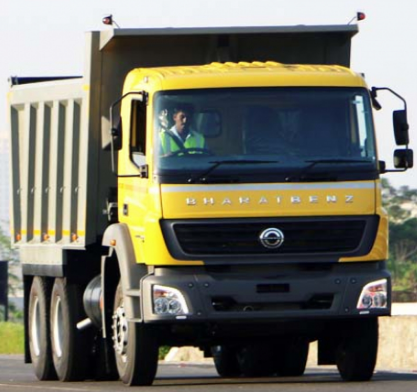truck: (1, 4, 415, 386)
